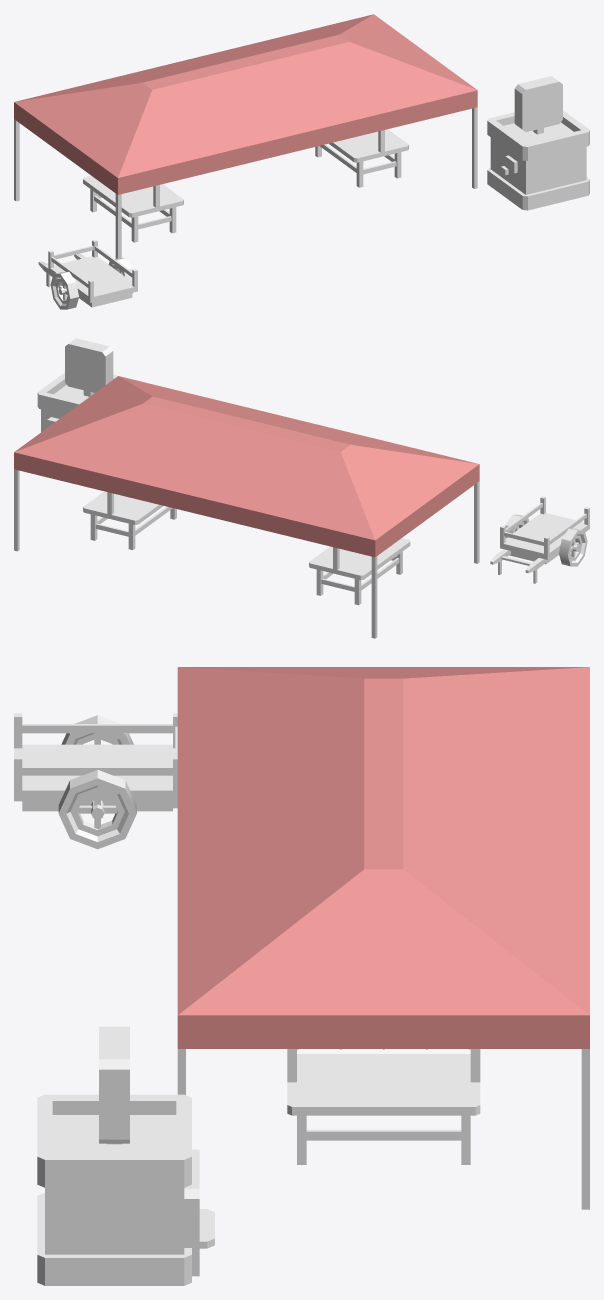
Rendered from combo-shaded-market.glb.
3 renders of one model, top to bottom at view 1: azimuth 30°, elevation 25°; view 2: azimuth 150°, elevation 25°; view 3: azimuth 270°, elevation 25°, orthographic. The views are drawn at different scales.
Visible parts, largest first — view 1: 00_asset-086, 04_asset-011, 03_asset-022, 01_asset-019, 02_asset-020; view 2: 00_asset-086, 03_asset-022, 04_asset-011, 01_asset-019, 02_asset-020; view 3: 00_asset-086, 04_asset-011, 03_asset-022, 02_asset-020.
Part boxes in pixels (<box>): 00_asset-086: <box>14,14,477,271</box>; 04_asset-011: <box>487,76,589,210</box>; 03_asset-022: <box>38,239,137,309</box>; 01_asset-019: <box>83,176,183,242</box>; 02_asset-020: <box>315,129,408,187</box>; 00_asset-086: <box>14,376,479,638</box>; 03_asset-022: <box>490,496,589,583</box>; 04_asset-011: <box>37,338,138,432</box>; 01_asset-019: <box>309,538,410,605</box>; 02_asset-020: <box>83,491,176,549</box>; 00_asset-086: <box>177,667,589,1209</box>; 04_asset-011: <box>37,1026,214,1285</box>; 03_asset-022: <box>14,713,177,849</box>; 02_asset-020: <box>287,1049,480,1164</box>.
Bounding box in the file's own units: 9.18 × 2.24 × 4.47.
